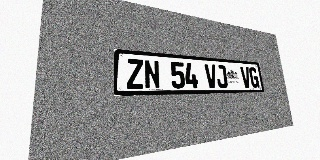4: (184, 62, 198, 88)
5: (170, 61, 186, 89)
G: (249, 67, 260, 88)
J: (215, 65, 228, 88)
N: (144, 60, 160, 89)
V: (204, 64, 218, 88), (240, 66, 252, 88)
Z: (126, 58, 144, 89)
